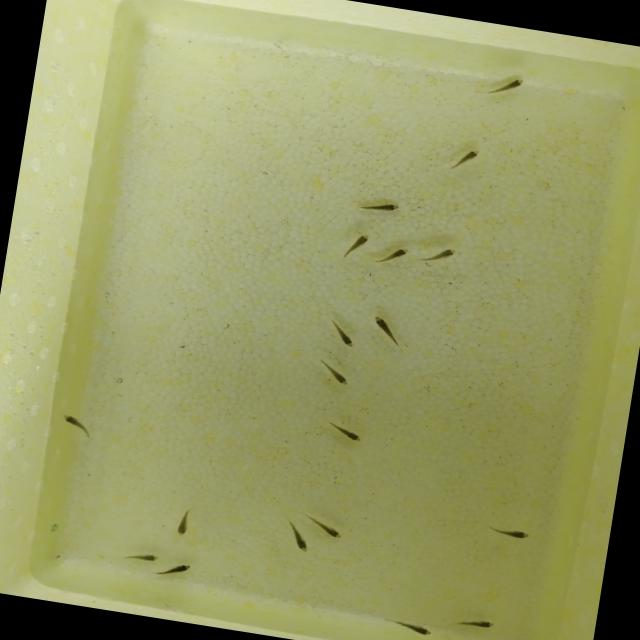fingerling: (472, 68, 536, 106), (51, 408, 106, 444), (320, 312, 364, 356), (310, 356, 360, 392), (368, 310, 409, 352), (318, 416, 372, 447), (354, 193, 411, 222), (419, 237, 462, 274), (338, 226, 377, 266), (444, 142, 484, 180), (482, 521, 540, 546), (376, 238, 416, 274), (450, 612, 506, 635), (168, 502, 200, 542), (280, 520, 312, 560), (384, 616, 437, 640), (309, 514, 348, 541), (158, 558, 197, 582), (124, 548, 163, 567)
